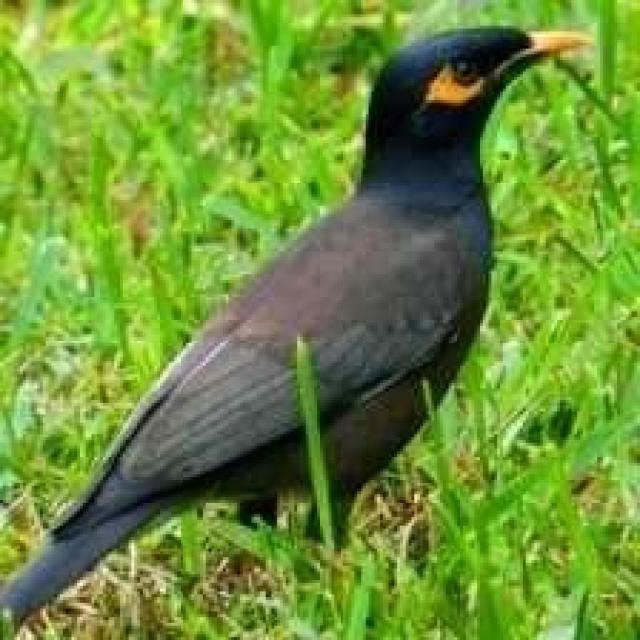bird: (14, 19, 592, 614)
